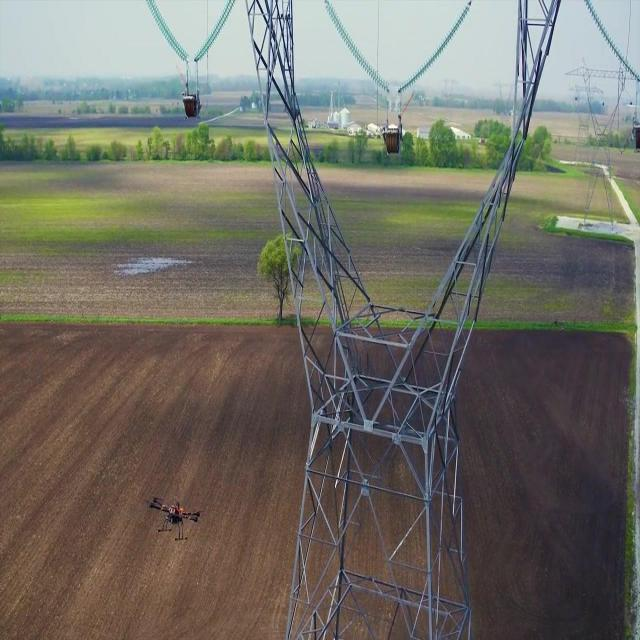UAV: (145, 498, 203, 540)
